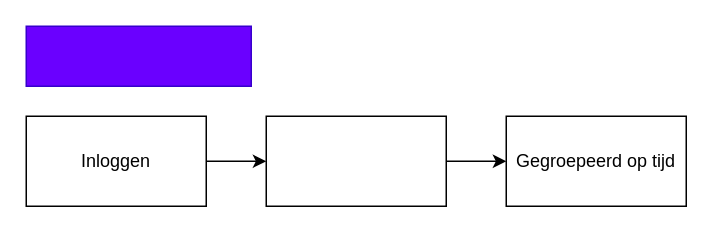
Some shapes in this 713 by 233 pixel diagram are drawn without their labels. Each missing label, with the centre of its shape:
Reservering (voor werknemers): point (138, 55)
Tabel met reserveringen: point (355, 160)
